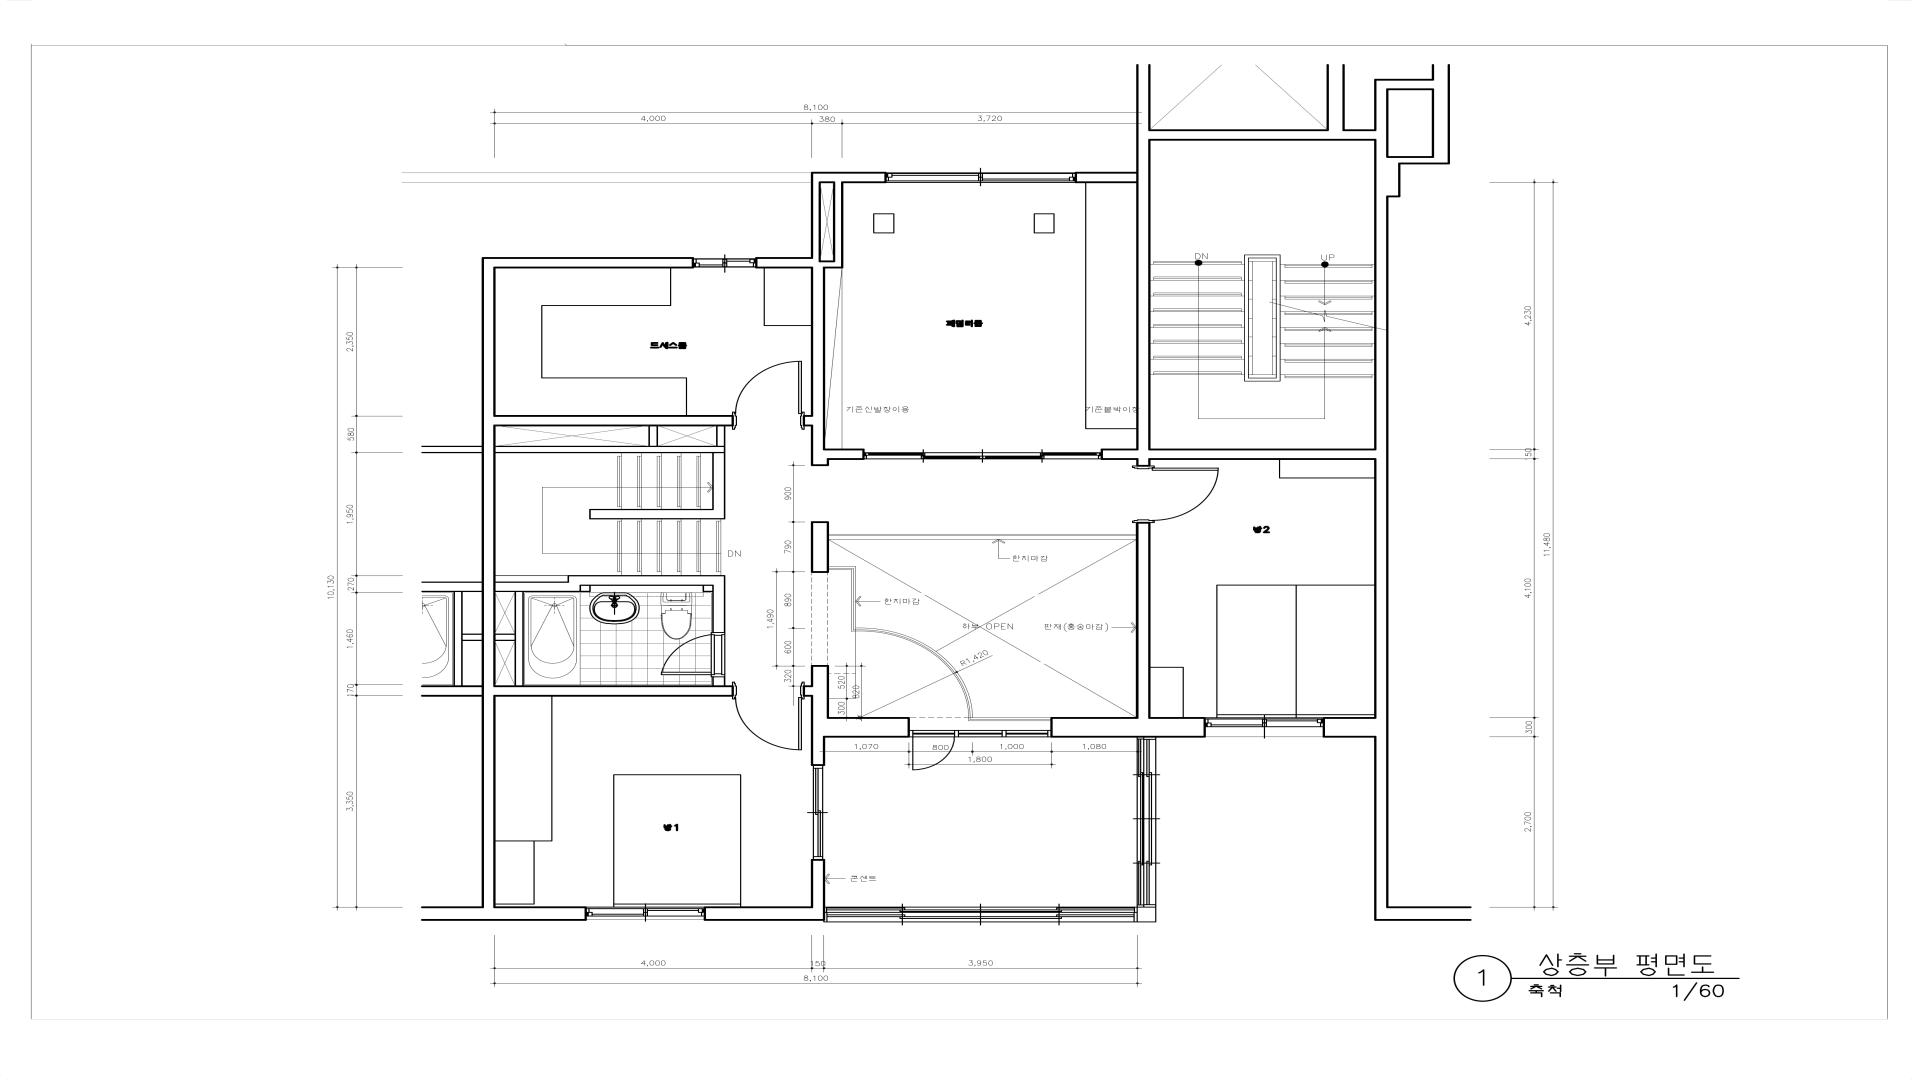door: (1131, 465, 1220, 524), (732, 360, 804, 430), (732, 682, 806, 750), (661, 632, 725, 678), (910, 731, 955, 770)
wall: (1374, 198, 1389, 920), (481, 269, 496, 920), (1137, 63, 1150, 465), (811, 269, 829, 465), (1135, 524, 1151, 717), (1051, 717, 1205, 737), (1150, 129, 1374, 141), (1150, 448, 1374, 460), (481, 257, 694, 269), (496, 686, 732, 696), (496, 415, 732, 426), (1374, 156, 1432, 198), (811, 665, 829, 766), (496, 446, 725, 454), (704, 906, 825, 920), (1432, 65, 1449, 165), (829, 717, 910, 737), (496, 575, 582, 592), (580, 575, 712, 585), (496, 906, 587, 920), (589, 509, 712, 520), (811, 183, 825, 269), (1327, 63, 1345, 129), (1389, 906, 1472, 920), (1323, 717, 1374, 737), (811, 521, 829, 574), (1374, 90, 1389, 156), (811, 171, 886, 183), (712, 454, 725, 520), (514, 592, 524, 686), (833, 183, 844, 260), (712, 575, 725, 632), (1075, 171, 1137, 183), (811, 858, 825, 906), (756, 257, 811, 269), (1374, 79, 1432, 90), (829, 448, 865, 460), (1101, 448, 1137, 460), (1137, 907, 1156, 922), (716, 426, 725, 446), (649, 426, 658, 446), (825, 260, 844, 269), (496, 633, 514, 641), (712, 678, 725, 686), (804, 686, 811, 696), (804, 415, 811, 426)
window: (824, 906, 1137, 922), (1137, 737, 1156, 907), (1205, 717, 1323, 737), (886, 173, 1075, 183), (865, 452, 1101, 459), (587, 907, 704, 920), (812, 766, 823, 858), (955, 731, 1051, 737), (694, 258, 756, 268)
